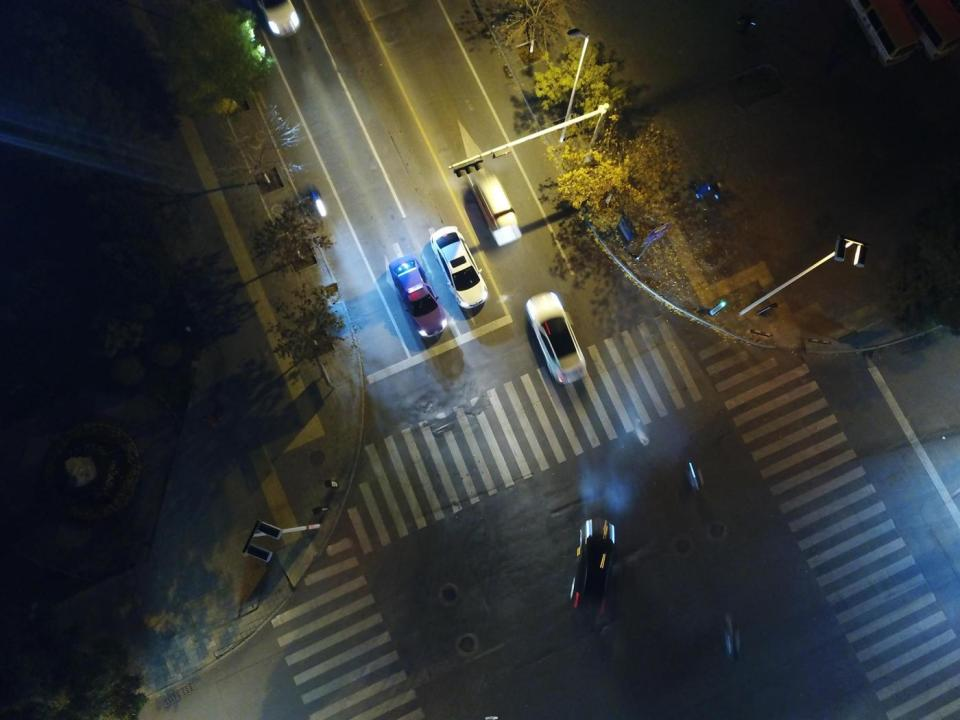bus: (467, 168, 523, 245)
car: (527, 294, 588, 384), (428, 225, 489, 312), (390, 258, 447, 342), (570, 516, 616, 613), (248, 0, 300, 38)
van: (844, 0, 919, 69), (900, 0, 959, 63)
